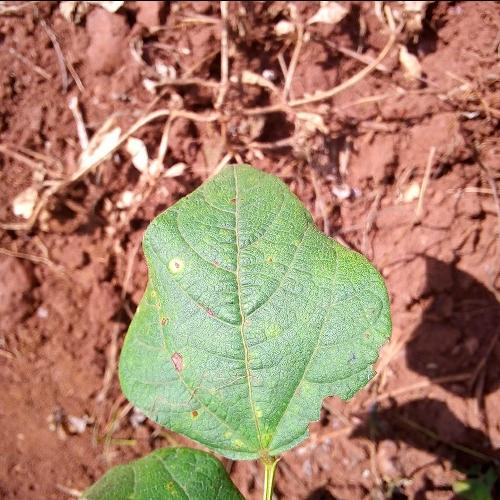mozaik: (211, 162, 400, 459)
